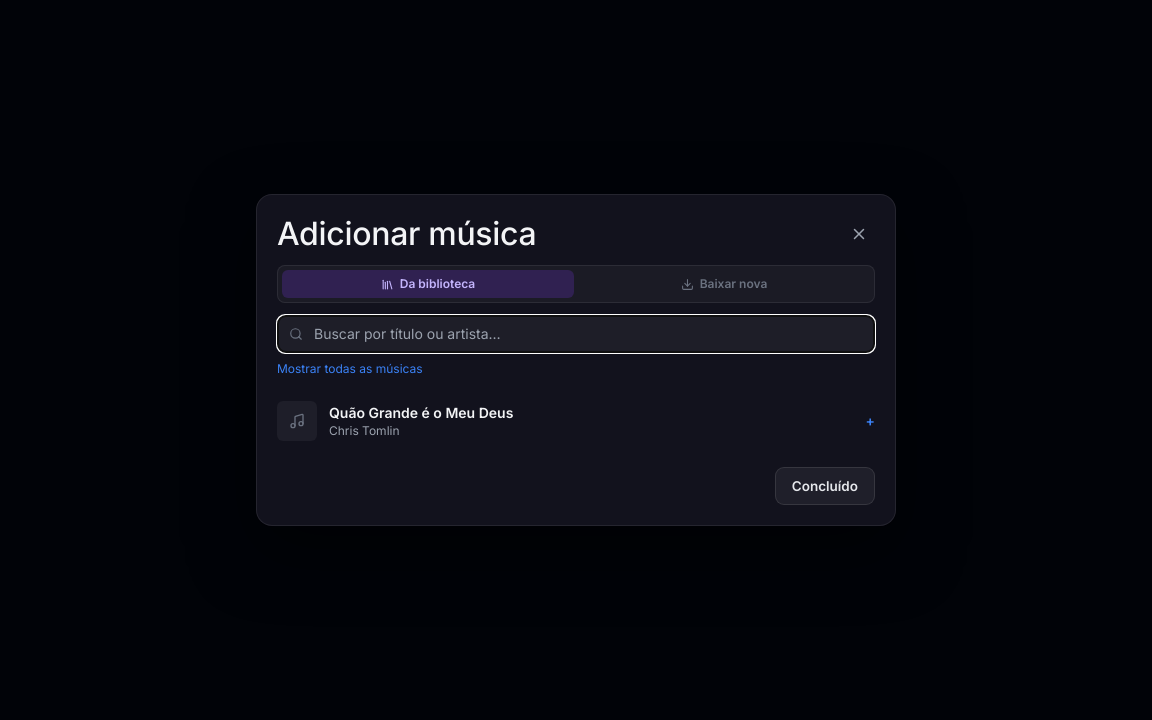
AddSongToPlaylistModal › após adicionar, exibe ícone de check e desabilita o botão da música
This screenshot has width=1152, height=720.
Click the text "Quão Grande é o Meu Deus" at x=421, y=413, box [329,404,513,421]
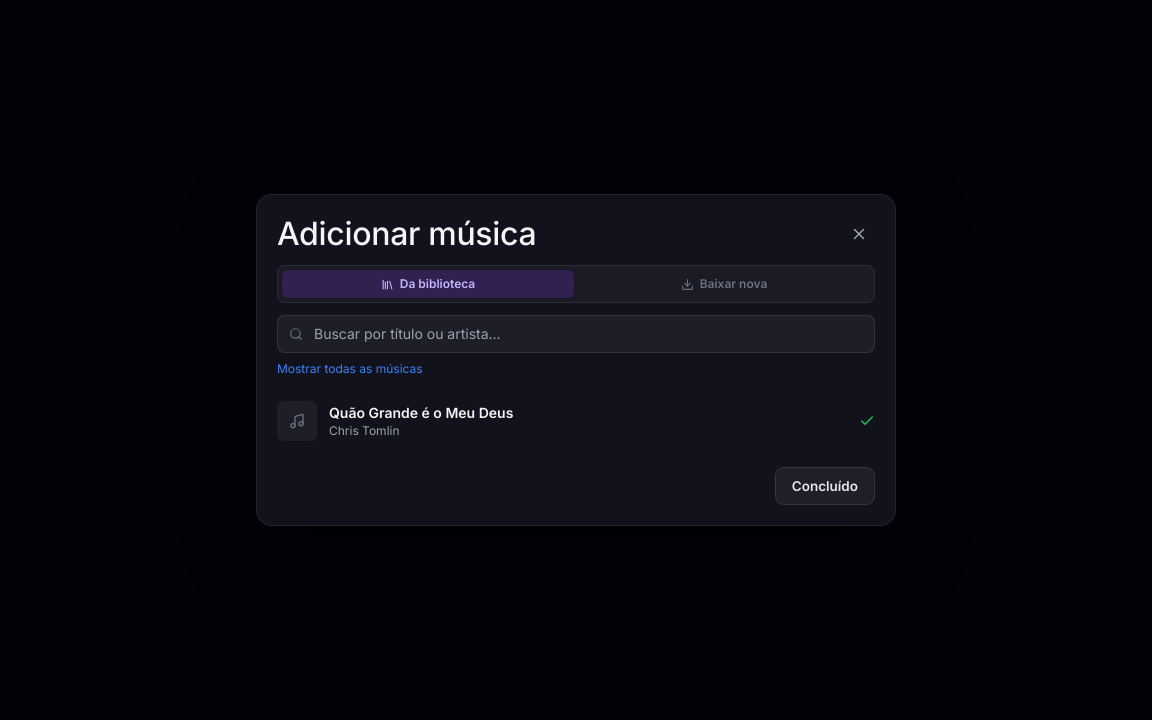
Check: the button "Quão Grande é o Meu Deus Chris Tomlin" is disabled, box [265,391,887,451]
